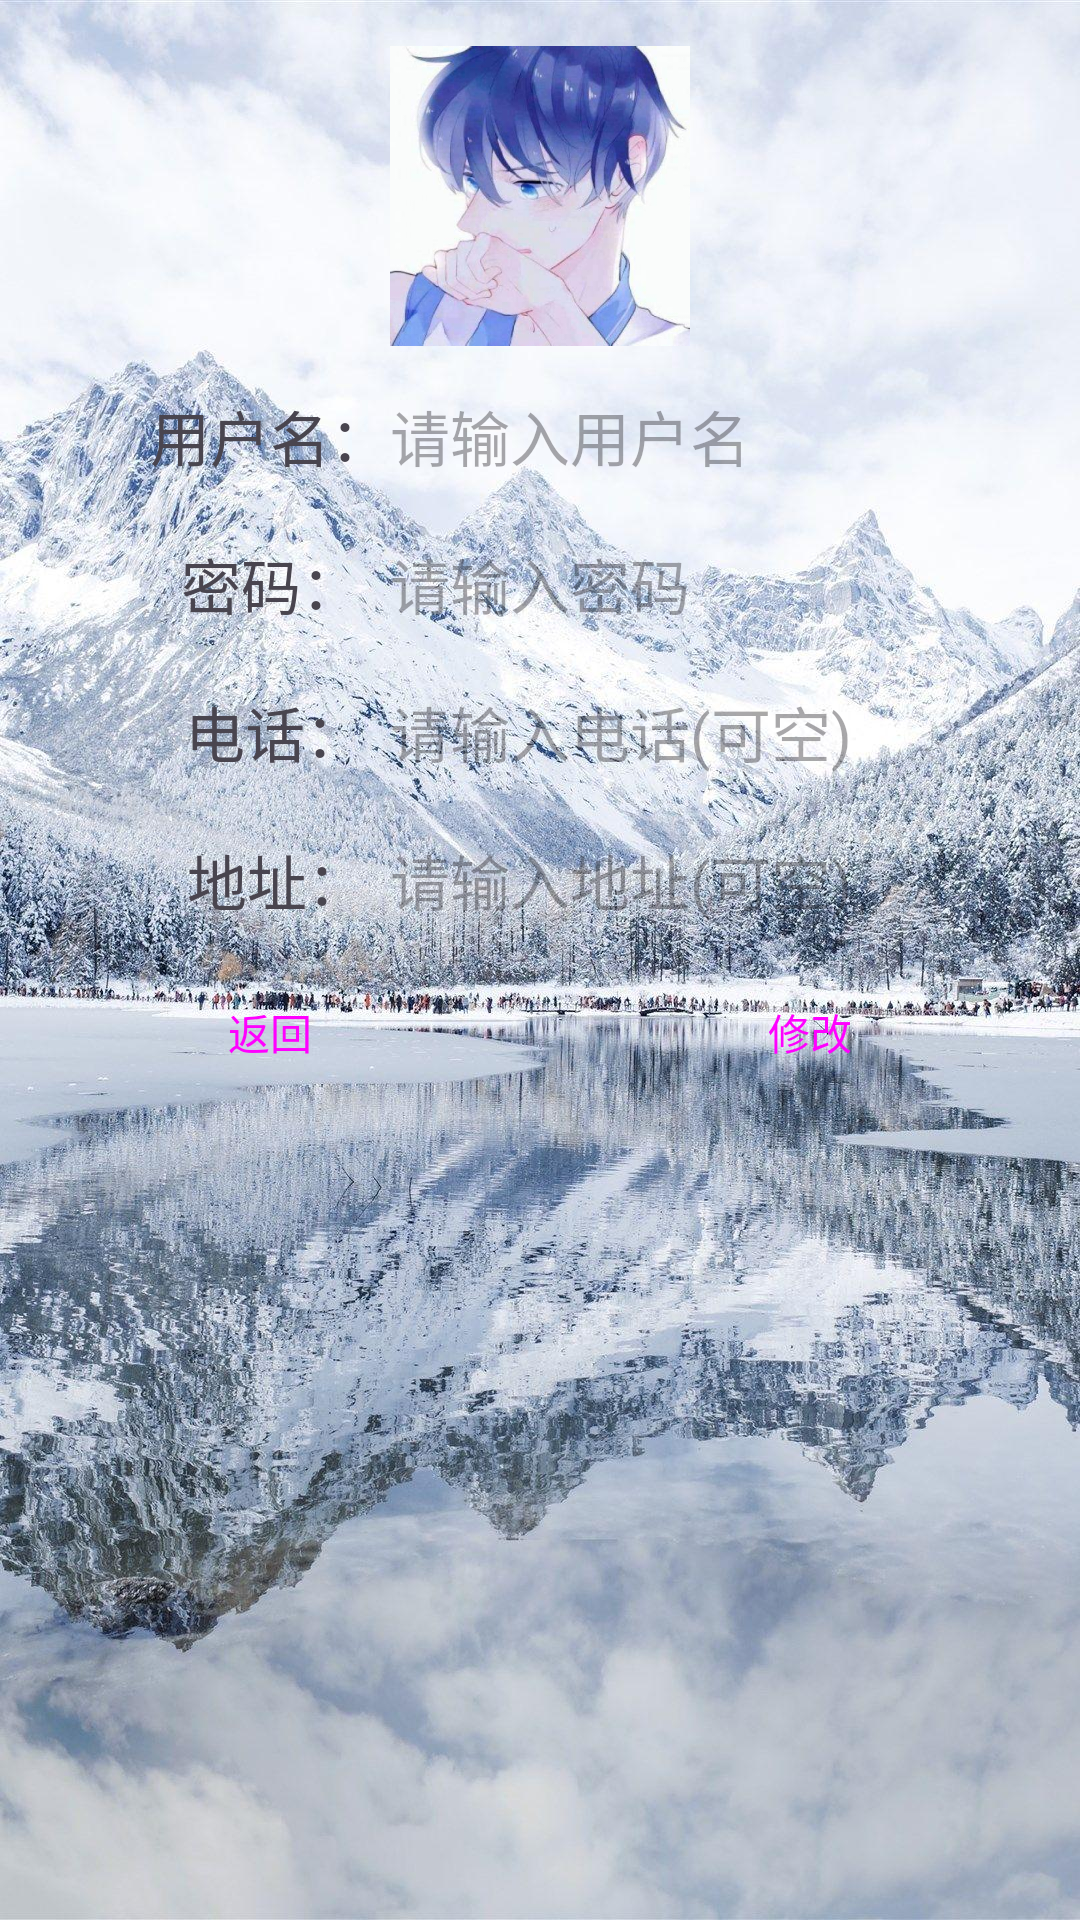

Icon bounding boxes for this 1080*1920 phone screenshot, format bbox=(x1, y1, x2, y2):
head: bbox=(390, 46, 690, 346)
